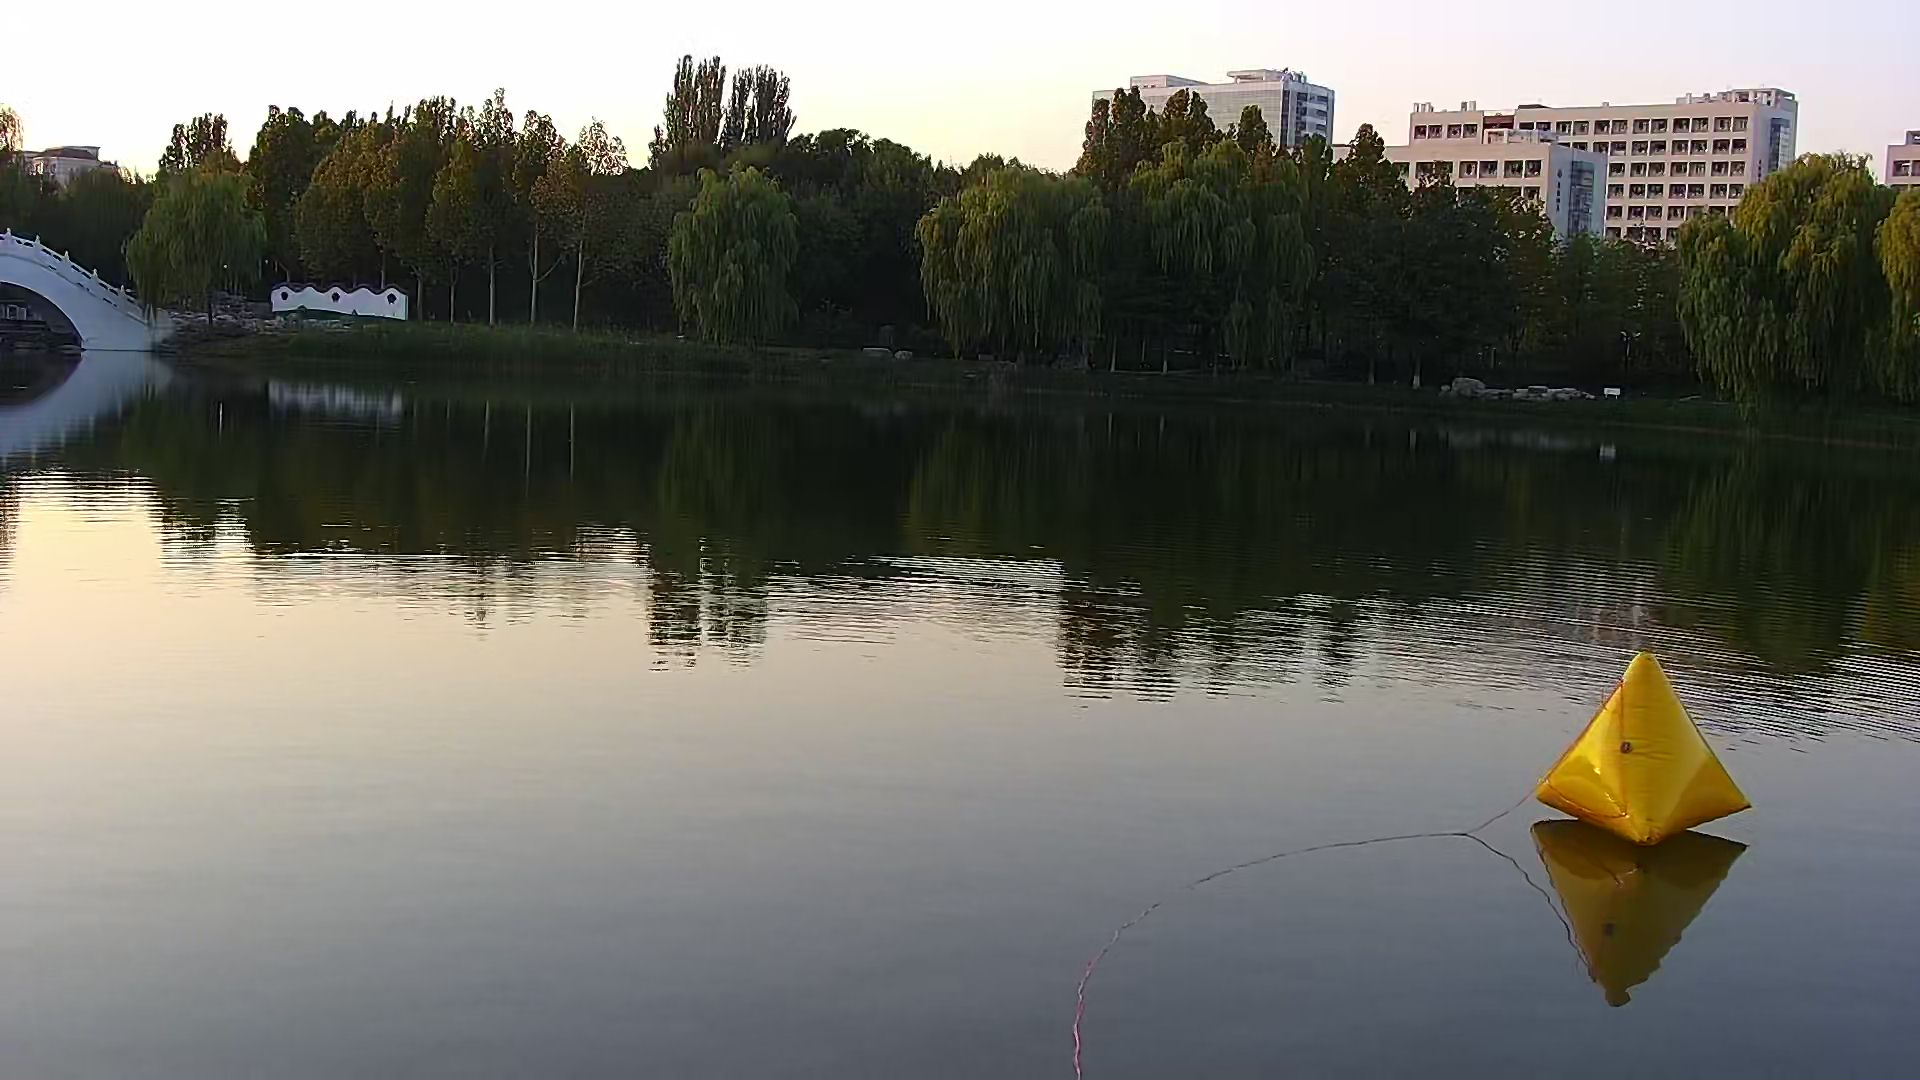rubbish: (1534, 645, 1753, 849)
